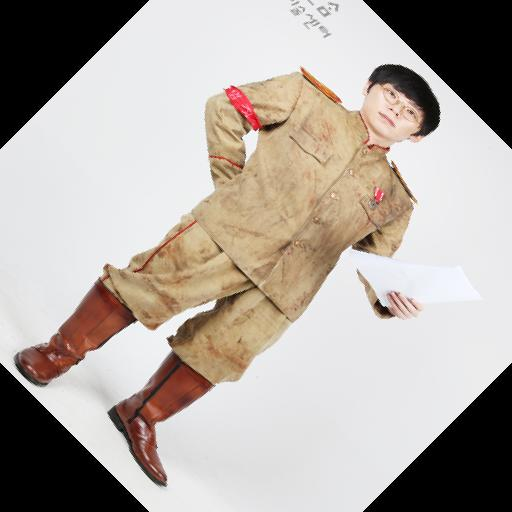north army: (73, 28, 486, 419)
